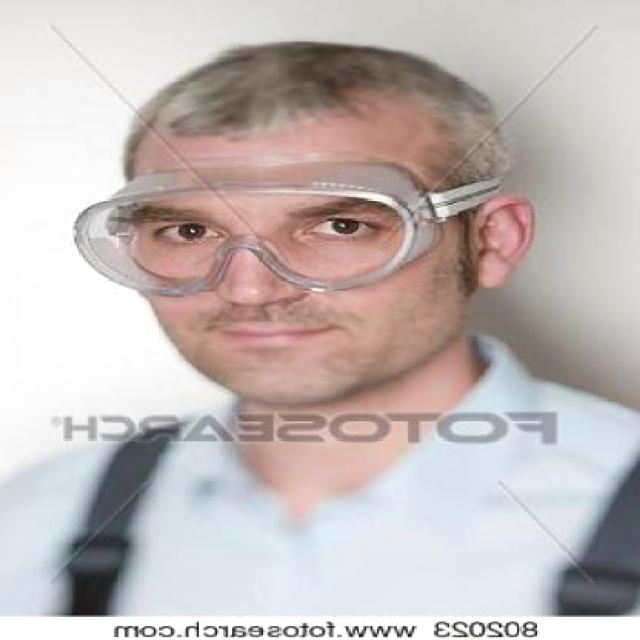face_nomask: (146, 190, 417, 359)
glasses: (74, 151, 503, 300)
head_nohelmet: (122, 43, 488, 165)
